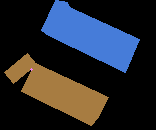parkingspot: (41, 0, 139, 72), (21, 63, 108, 125), (4, 53, 36, 83)
